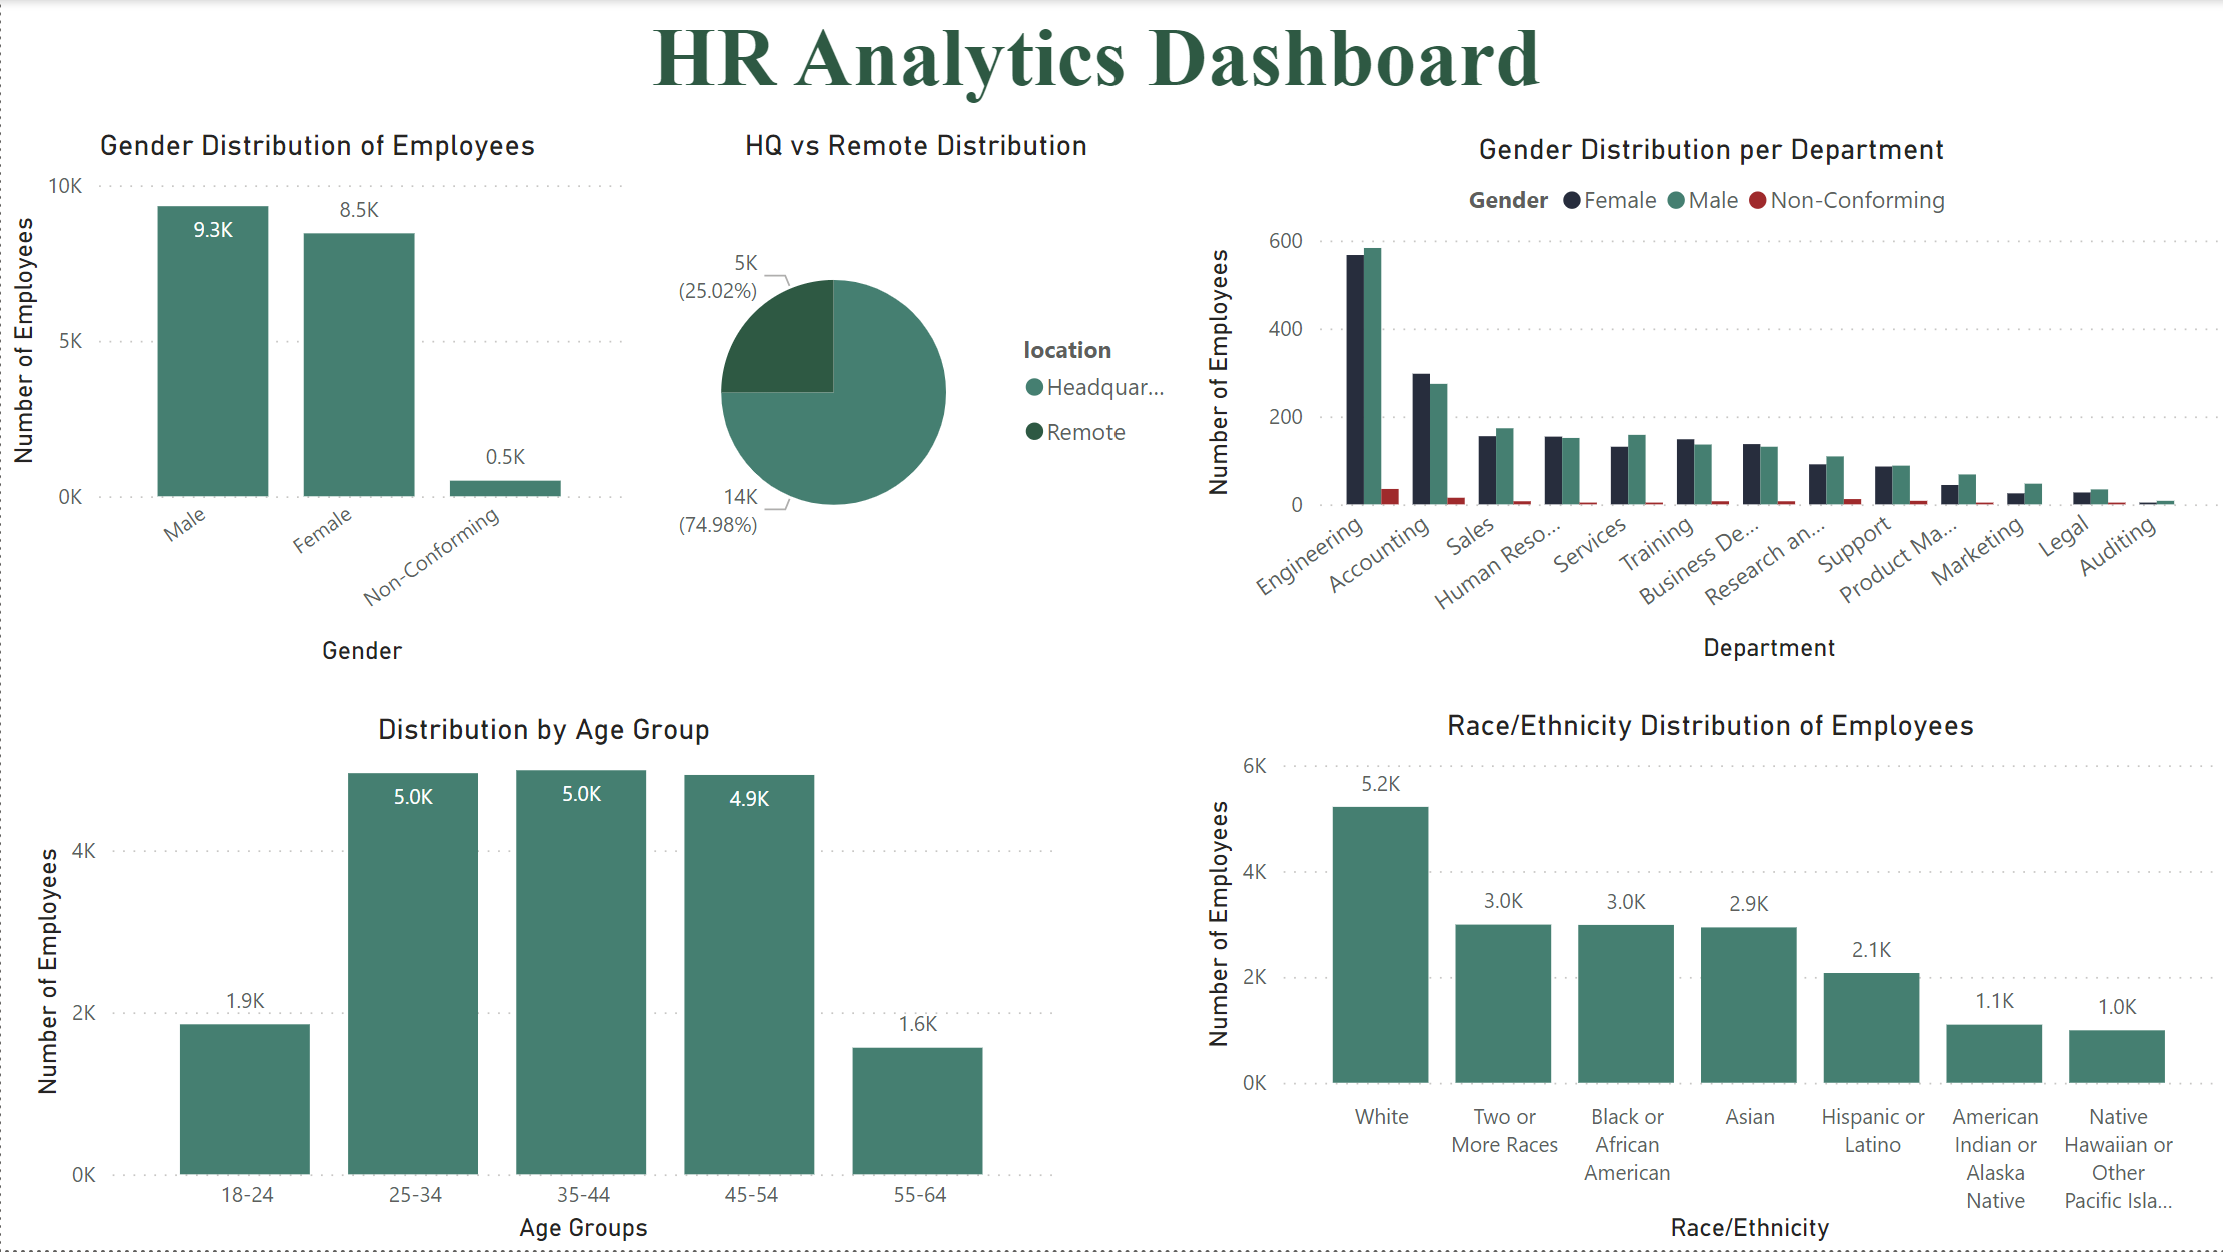

The dashboard page shown, as its layout file describes it:
{"tool":"powerbi","page":{"name":"Page 1","canvas":[1280,720],"ordinal":0},"visuals":[{"type":"columnChart","title":"Gender Distribution of Employees","fields":{"Y":["Sum(breakdown of Gender.COUNT)"],"Category":["breakdown of Gender.gender"]},"box":[0,73.9,364.6,313.6],"z":0},{"type":"pieChart","title":"HQ vs Remote Distribution","fields":{"Y":["Sum(breakdown of location.COUNT)"],"Category":["breakdown of location.location"]},"box":[364.6,73.9,323.8,285.6],"z":1000},{"type":"columnChart","title":"Distribution by Age Group","fields":{"Category":["Sort Order.age_group"],"Y":["Sum(breakdown of age_group.COUNT)"]},"box":[14,410.5,597.9,309.8],"z":2000},{"type":"clusteredColumnChart","title":"Gender Distribution per Department","fields":{"Category":["breakdown of department vs gender.department"],"Series":["breakdown of department vs gender.gender"],"Y":["Sum(breakdown of department vs gender.COUNT)"]},"box":[687.2,76.5,594.1,309.8],"z":3000},{"type":"columnChart","title":"Race/Ethnicity Distribution of Employees","fields":{"Y":["Sum(breakdown of Race.COUNT)"],"Category":["breakdown of Race.race"]},"box":[687.2,408,592.8,312.4],"z":4000},{"type":"textbox","box":[99.4,0,1063.3,73.9],"z":5000}]}

Visuals, with their boxes in screenshot pixels (x1, y1, x2, y2), scaled from the page's 1280x720 canvas onto the 2224x1252 screenshot:
"Gender Distribution of Employees" columnChart: rect(0, 129, 633, 674)
"HQ vs Remote Distribution" pieChart: rect(633, 129, 1196, 625)
"Distribution by Age Group" columnChart: rect(24, 714, 1063, 1251)
"Gender Distribution per Department" clusteredColumnChart: rect(1194, 133, 2223, 672)
"Race/Ethnicity Distribution of Employees" columnChart: rect(1194, 709, 2223, 1251)
textbox: rect(173, 0, 2020, 129)
